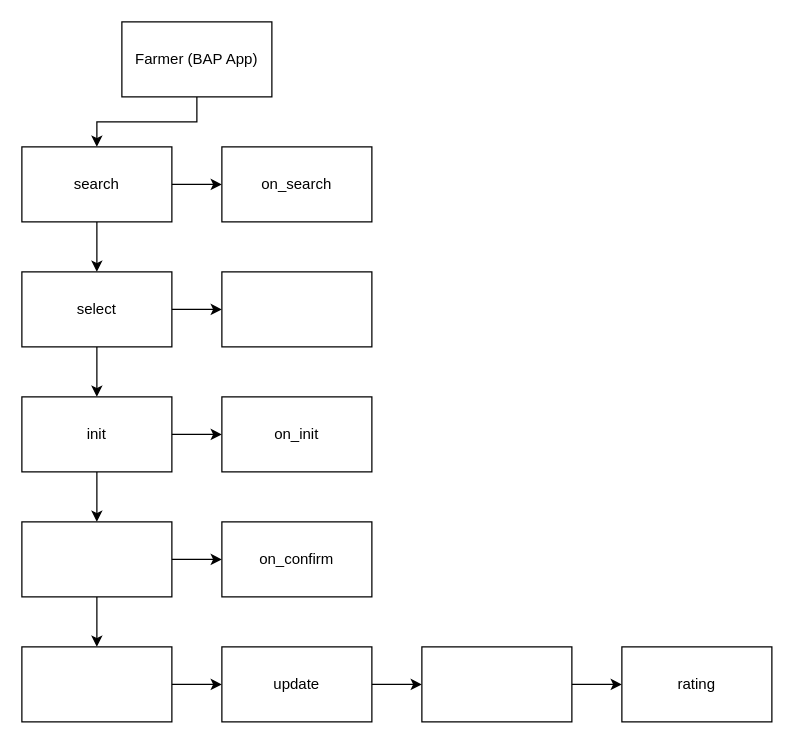
Image size: 794x744. Some labels were removed from this diagram. The shapes that lost their labels are listed below. From the top down, each one's box as (x1, y1, x2, y2) in pixels, then its label:
(221, 271, 372, 347): on_select
(21, 521, 172, 597): confirm
(21, 646, 172, 722): status
(421, 646, 572, 722): report
